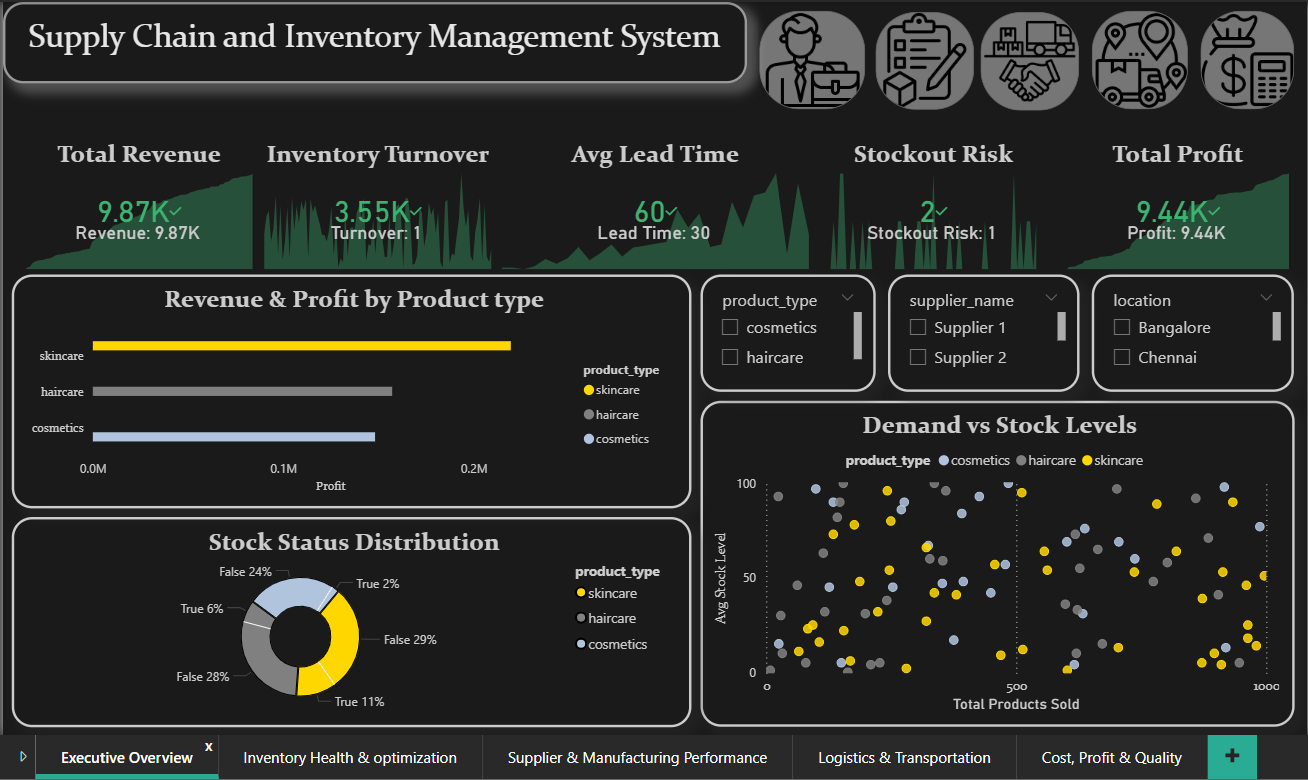

Layout of this report page (visuals, bound fields, positions):
{"tool":"powerbi","page":{"name":"Executive Overview","canvas":[1280,720],"ordinal":0},"visuals":[{"type":"textbox","box":[0,0,730.1,79.8],"z":0},{"type":"actionButton","box":[780.4,0,452.8,114.1],"z":1000},{"type":"image","box":[742.3,8.6,104.3,96.9],"z":2000},{"type":"image","box":[856.4,9.8,96.9,95.7],"z":3000},{"type":"image","box":[959.5,9.8,96.9,96.9],"z":4000},{"type":"image","box":[1068.7,8.6,94.5,96.9],"z":5000},{"type":"image","box":[1175.5,8.6,92,96.9],"z":6000},{"type":"kpi","title":"Total Revenue ","fields":{"Indicator":["Sum(Supply_chain_bi_data.revenue_generated)"],"TrendLine":["Supply_chain_bi_data.revenue_generated"],"Goal":["Avg(Supply_chain_bi_data.revenue_generated)"]},"box":[17.2,133.7,233.1,133.7],"z":7000},{"type":"kpi","title":"Total Profit ","fields":{"Indicator":["Sum(Supply_chain_bi_data.profit)"],"TrendLine":["Supply_chain_bi_data.profit"],"Goal":["Avg(Supply_chain_bi_data.profit)"]},"box":[1039.3,133.7,228.2,133.7],"z":8000},{"type":"kpi","title":"Avg Lead Time","fields":{"Indicator":["Sum(Supply_chain_bi_data.lead_times)"],"TrendLine":["Supply_chain_bi_data.lead_times"],"Goal":["Median(Supply_chain_bi_data.lead_times)"]},"box":[484.7,133.7,311.7,133.7],"z":9000},{"type":"kpi","title":"Stockout Risk ","fields":{"Indicator":["Count(Supply_chain_bi_data.product_type)"],"Goal":["Count(Supply_chain_bi_data.stockout_risk)"],"TrendLine":["Supply_chain_bi_data.stock_levels"]},"box":[807.4,133.7,212.3,133.7],"z":10000},{"type":"kpi","title":"Inventory Turnover","fields":{"Goal":["CountNonNull(Supply_chain_bi_data.inventory_turnover)1"],"Indicator":["Sum(Supply_chain_bi_data.revenue_generated)"],"TrendLine":["Supply_chain_bi_data.inventory_turnover"]},"box":[251.5,133.7,233.1,133.7],"z":11000},{"type":"clusteredBarChart","title":"Revenue & Profit by Product type","fields":{"Category":["Supply_chain_bi_data.product_type"],"Series":["Supply_chain_bi_data.product_type"],"Y":["Sum(Supply_chain_bi_data.profit)"]},"box":[8.6,267.5,667.5,229.4],"z":12000},{"type":"scatterChart","title":"Demand vs Stock Levels","fields":{"X":["Sum(Supply_chain_bi_data.number_of_products_sold)"],"Y":["Avg(Supply_chain_bi_data.stock_levels)"],"Series":["Supply_chain_bi_data.product_type"],"Category":["Supply_chain_bi_data.costs"]},"box":[684.7,391.4,582.8,320.2],"z":13000},{"type":"donutChart","title":"Stock Status Distribution","fields":{"Y":["CountNonNull(Supply_chain_bi_data.sku)"],"Series":["Supply_chain_bi_data.stockout_risk"],"Category":["Supply_chain_bi_data.product_type"]},"box":[8.6,505.5,667.5,206.1],"z":14000},{"type":"slicer","fields":{"Values":["Supply_chain_bi_data.product_type"]},"box":[684.7,267.5,171.8,115.3],"z":15000},{"type":"slicer","fields":{"Values":["Supply_chain_bi_data.supplier_name"]},"box":[868.7,267.5,187.7,115.3],"z":16000},{"type":"slicer","fields":{"Values":["Supply_chain_bi_data.location"]},"box":[1068.7,267.5,198.8,115.3],"z":17000}]}

Visuals, with their boxes on the page's 1280x720 design canvas (x1, y1, x2, y2). These are canvas units, not pixel positions in the 1308x780 screenshot, which may show the page scaled, cropped or inside an application window:
textbox: 0, 0, 730, 80
actionButton: 780, 0, 1233, 114
image: 742, 9, 847, 106
image: 856, 10, 953, 106
image: 960, 10, 1056, 107
image: 1069, 9, 1163, 106
image: 1176, 9, 1268, 106
"Total Revenue " kpi: 17, 134, 250, 267
"Total Profit " kpi: 1039, 134, 1268, 267
"Avg Lead Time" kpi: 485, 134, 796, 267
"Stockout Risk " kpi: 807, 134, 1020, 267
"Inventory Turnover" kpi: 252, 134, 485, 267
"Revenue & Profit by Product type" clusteredBarChart: 9, 268, 676, 497
"Demand vs Stock Levels" scatterChart: 685, 391, 1268, 712
"Stock Status Distribution" donutChart: 9, 506, 676, 712
slicer - Supply_chain_bi_data.product_type: 685, 268, 856, 383
slicer - Supply_chain_bi_data.supplier_name: 869, 268, 1056, 383
slicer - Supply_chain_bi_data.location: 1069, 268, 1268, 383
